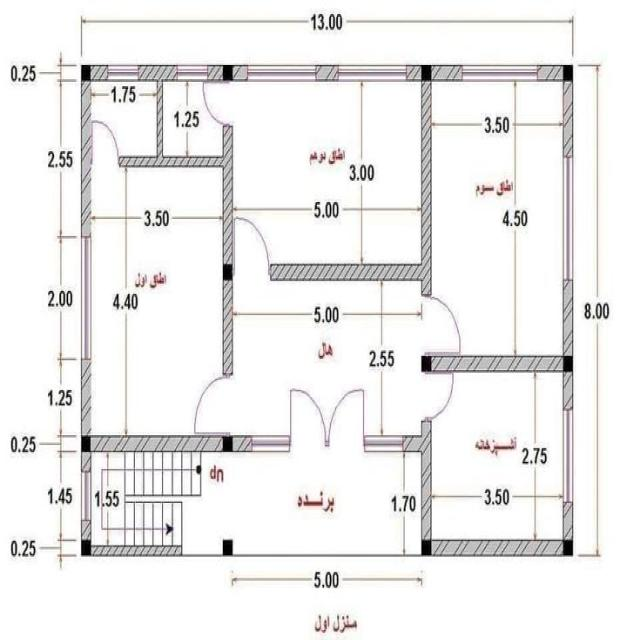Blueprint: (73, 48, 580, 576)
column: (221, 259, 236, 284), (220, 536, 236, 559), (220, 62, 236, 84), (220, 432, 235, 454), (419, 536, 434, 558), (79, 61, 93, 84), (79, 537, 93, 559), (79, 434, 93, 454), (419, 63, 433, 83), (561, 537, 575, 557), (420, 354, 434, 373), (562, 353, 574, 375), (562, 62, 574, 84)
wall: (269, 259, 434, 287), (419, 75, 435, 301), (430, 536, 564, 561), (429, 353, 565, 375), (89, 434, 224, 453), (116, 152, 235, 172), (79, 77, 93, 242), (220, 121, 235, 268), (88, 542, 185, 561), (420, 418, 434, 546), (560, 276, 576, 360), (78, 355, 93, 440), (222, 278, 234, 380), (561, 77, 575, 162), (136, 62, 180, 84), (156, 62, 164, 171), (429, 61, 464, 84), (560, 498, 576, 545), (401, 433, 434, 455), (536, 61, 566, 84), (313, 61, 342, 84), (561, 368, 575, 414), (230, 432, 254, 456), (404, 60, 424, 85), (89, 62, 111, 84), (206, 61, 226, 84), (79, 516, 93, 545), (79, 448, 93, 476), (232, 62, 249, 85)
